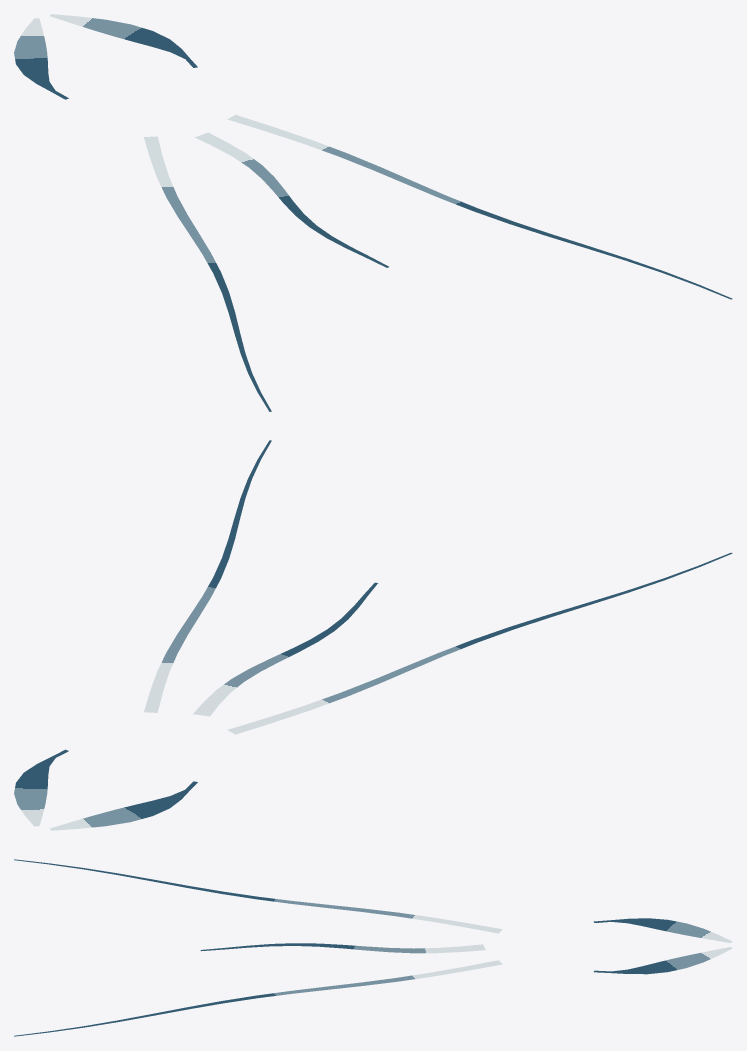
The model's file is wake.glb.
3 renders of one model, top to bottom at view 1: azimuth 30°, elevation 25°; view 2: azimuth 150°, elevation 25°; view 3: azimuth 270°, elevation 25°, orthographic. The views are drawn at different scales.
Visible parts, largest first — view 1: wake_body; view 2: wake_body; view 3: wake_body.
Boxes of the visible parts, bbox=[...] form: wake_body: bbox=[14, 14, 732, 411]; wake_body: bbox=[14, 440, 732, 830]; wake_body: bbox=[14, 859, 732, 1036].
Bounding box in the file's own units: 10.35 × 0.09 × 17.74.
1 material, 1 textured.
